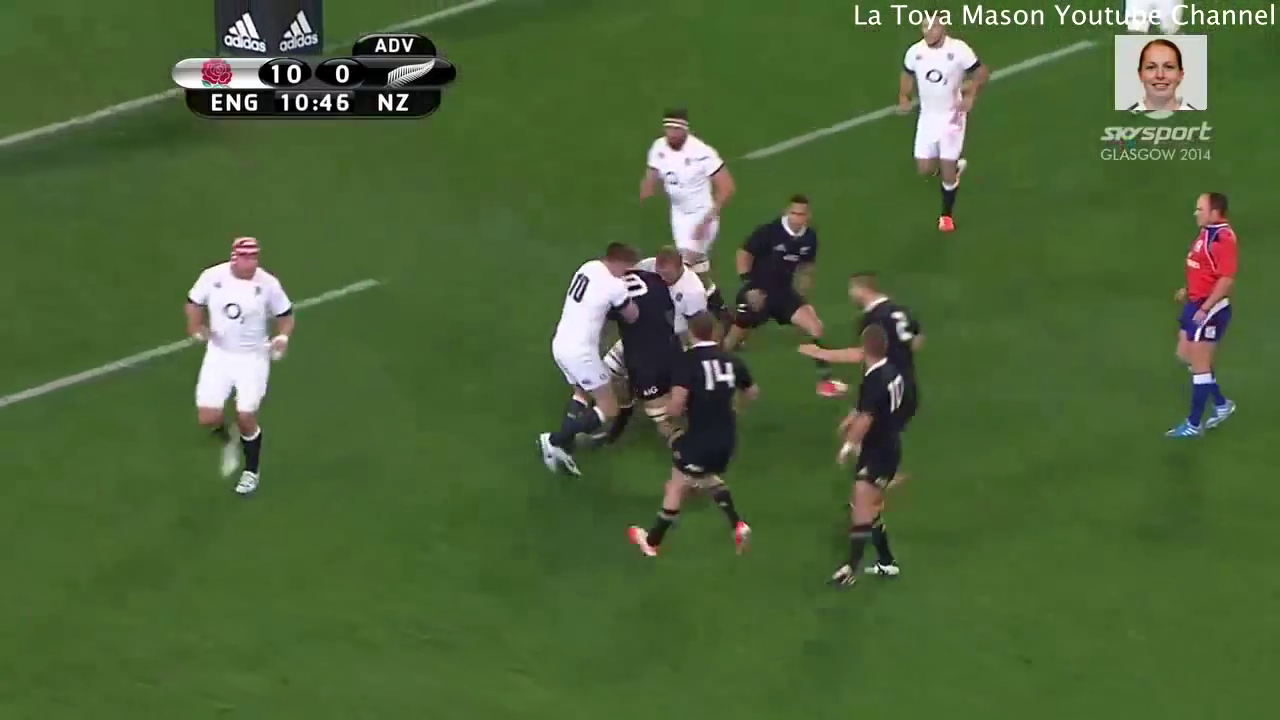player: (607, 313, 758, 572), (169, 224, 304, 501), (526, 233, 643, 488), (711, 191, 844, 400), (823, 317, 917, 594), (629, 100, 741, 320), (1157, 182, 1249, 447), (890, 8, 988, 235), (833, 266, 926, 428)
